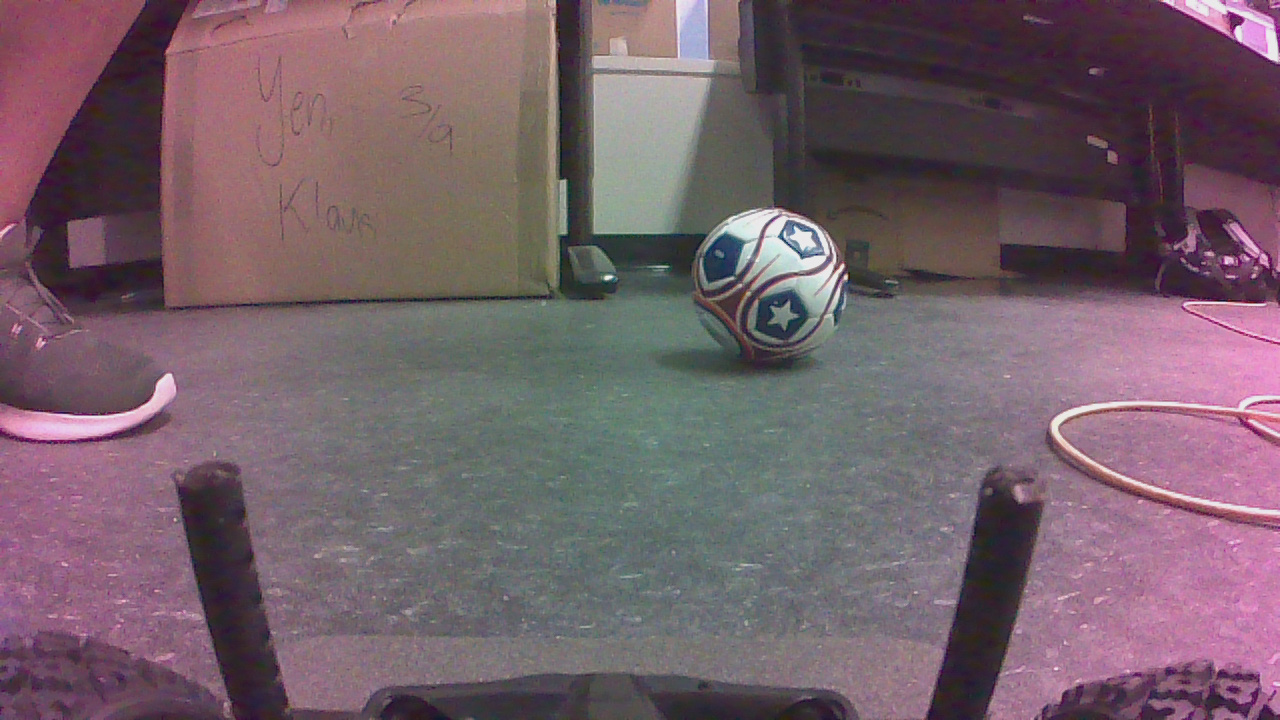ball: (693, 210, 853, 368)
